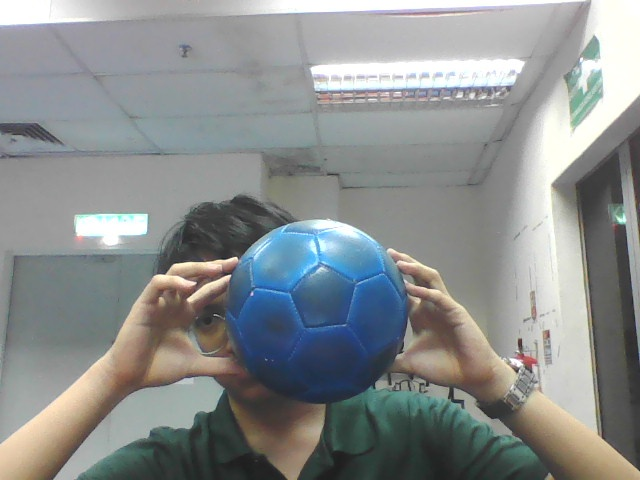Blue: (227, 219, 408, 403)
